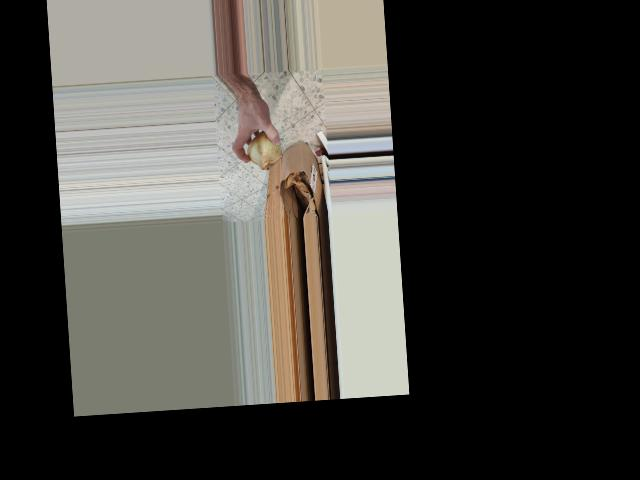onion: (245, 125, 283, 170)
